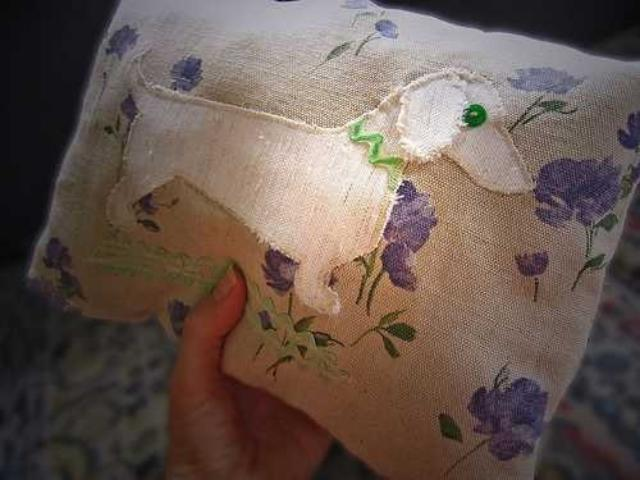pillow: (24, 0, 638, 478)
